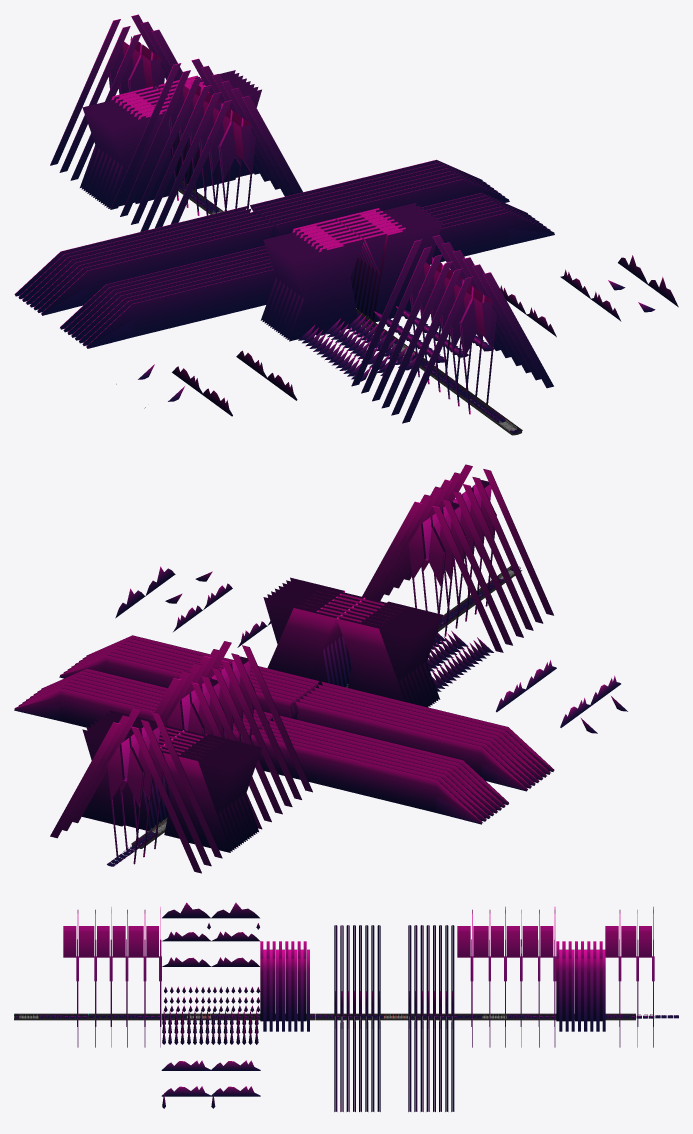
Rendered from tonnels-atached2.fbx.
The picture shows the model from 3 angles, top to bottom: view 1: azimuth 30°, elevation 25°; view 2: azimuth 150°, elevation 25°; view 3: azimuth 270°, elevation 25°; orthographic projection. The views are drawn at different scales.
Visible parts, largest first — view 1: inner_tonnel_001; view 2: inner_tonnel_001; view 3: inner_tonnel_001.
Part boxes in pixels (bbox=[...]): inner_tonnel_001: bbox=[14, 14, 678, 435]; inner_tonnel_001: bbox=[14, 464, 627, 873]; inner_tonnel_001: bbox=[14, 902, 678, 1111].
Size of the model in its own units: 608 by 157 by 849.
